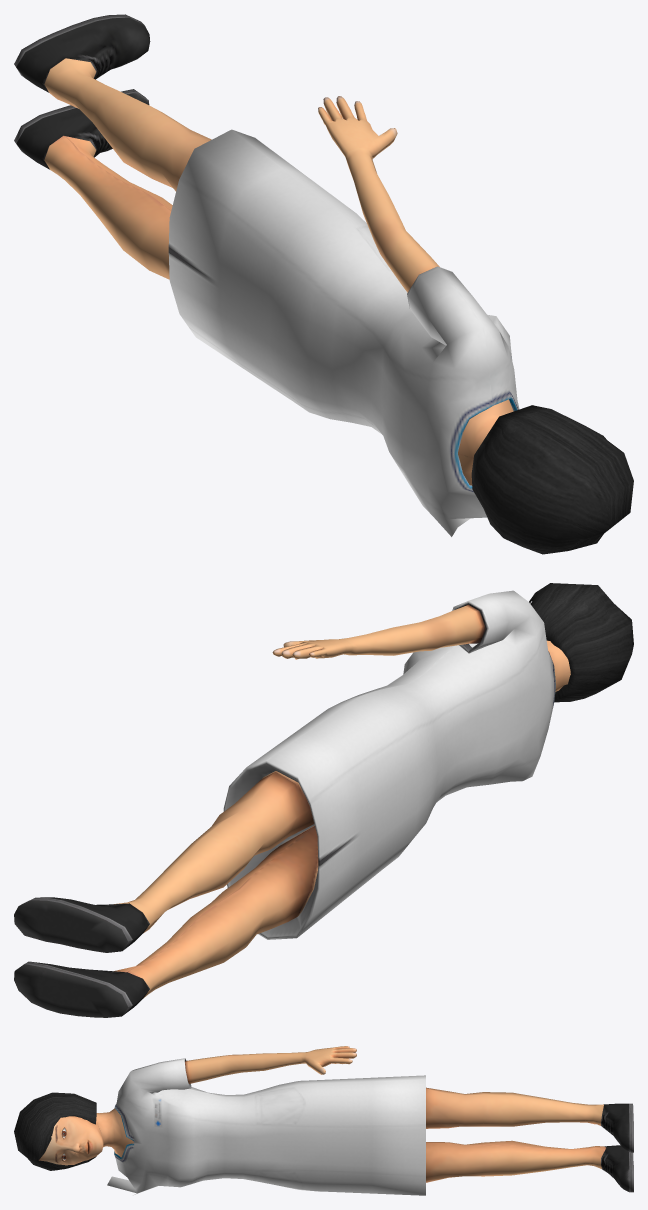
The model's file is nurse_standing_waving.glb.
3 renders of one model, top to bottom at view 1: azimuth 30°, elevation 25°; view 2: azimuth 150°, elevation 25°; view 3: azimuth 270°, elevation 25°, orthographic. The views are drawn at different scales.
Visible parts, largest first — view 1: world; view 2: world; view 3: world.
Boxes of the visible parts, x1=… form: world: x1=14, y1=14, x2=633, y2=554; world: x1=14, y1=583, x2=633, y2=1017; world: x1=14, y1=1046, x2=633, y2=1195.
Size of the model in its own units: 0.3055 by 0.4563 by 1.61.
Materials: 1 (1 with a texture image).
